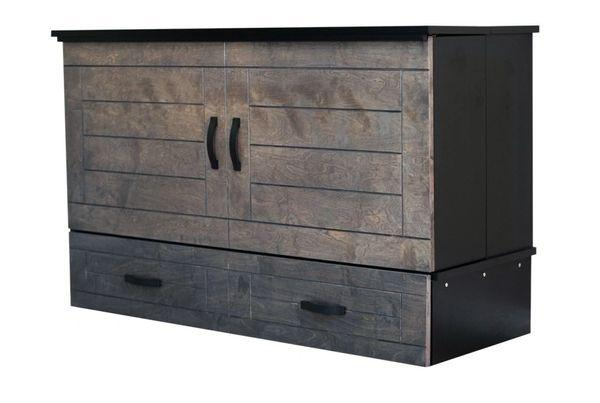cabinet_door: (224, 74, 429, 232), (67, 68, 228, 213), (236, 279, 431, 332), (69, 258, 226, 308)
handle: (225, 115, 246, 175), (201, 113, 222, 172), (299, 298, 350, 319), (121, 273, 166, 292)
